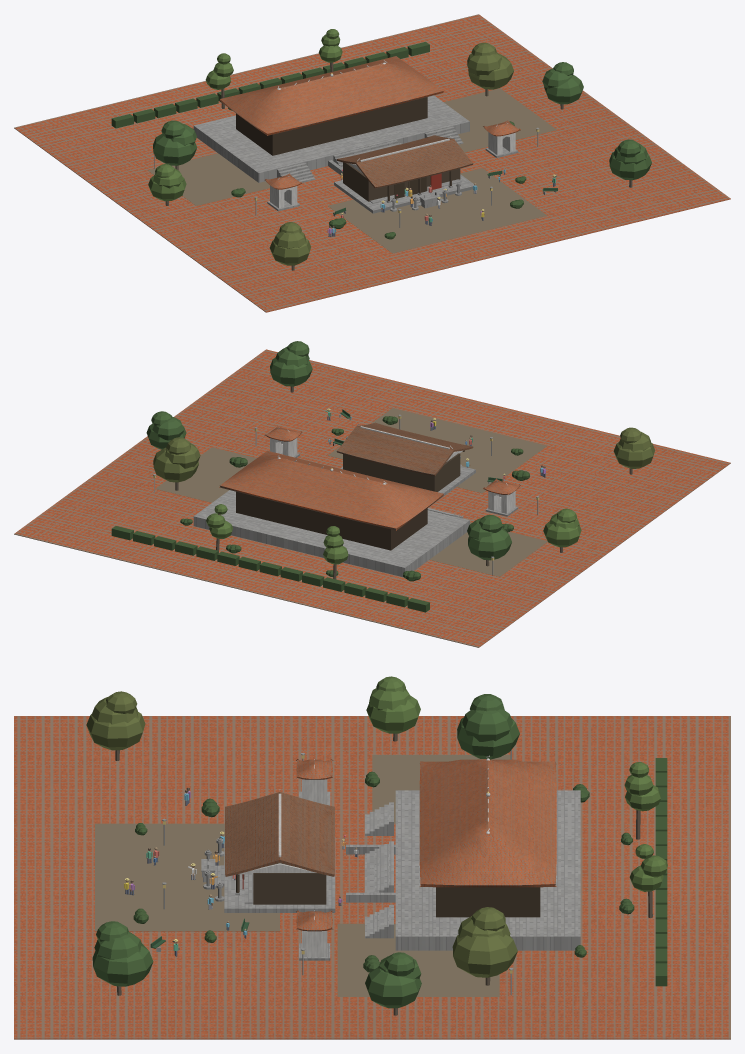
Rendered from le-quy-don-model.glb.
The picture shows the model from 3 angles, top to bottom: view 1: azimuth 30°, elevation 25°; view 2: azimuth 150°, elevation 25°; view 3: azimuth 270°, elevation 25°; orthographic projection. The views are drawn at different scales.
Parts seen in each view (by area): view 1: Plaza_Paving, Plaza_Wear_0, Hall_Terrace, Hall_Roof, Hall_Body, Tree_BigL_Foliage_0, House_Roof, Bush_0_0, Tree_BigR_Foliage_0, Tree_PalmL_Foliage_0, Hall_Ridge_Bar, House_Body; view 2: Plaza_Paving, Hall_Roof, Plaza_Wear_0, Hall_Terrace, Bush_0_0, Tree_BigL_Foliage_0, Hall_Body, House_Roof, Tree_BigR_Foliage_0, Tree_PalmL_Foliage_0, House_Body, Hall_Ridge_Bar; view 3: Plaza_Paving, Plaza_Wear_0, Hall_Terrace, Hall_Roof, Tree_BigL_Foliage_0, House_Roof, Tree_BigR_Foliage_0, Tree_PalmL_Foliage_0, Bush_0_0, Hall_Body, House_Body, Hall_Ridge_Bar.
Part boxes in pixels (x1,y1,x2,y2): Plaza_Paving: (14,14,730,312); Plaza_Wear_0: (148,88,556,253); Hall_Terrace: (153,95,556,227); Hall_Roof: (219,56,520,189); Hall_Body: (236,97,427,198); Tree_BigL_Foliage_0: (153,62,651,180); House_Roof: (336,135,473,188); Bush_0_0: (111,42,526,239); Tree_BigR_Foliage_0: (269,42,513,265); Tree_PalmL_Foliage_0: (148,29,342,201); Hall_Ridge_Bar: (270,60,515,208); House_Body: (343,162,460,201); Plaza_Paving: (14,349,730,647); Hall_Roof: (219,425,520,530); Plaza_Wear_0: (155,408,547,576); Hall_Terrace: (153,414,539,577); Bush_0_0: (111,416,529,612); Tree_BigL_Foliage_0: (146,341,511,560); Hall_Body: (236,491,427,550); House_Roof: (336,422,473,476); Tree_BigR_Foliage_0: (153,427,654,482); Tree_PalmL_Foliage_0: (206,504,581,564); House_Body: (343,450,464,491); Hall_Ridge_Bar: (270,423,515,513); Plaza_Paving: (14,716,730,1039); Plaza_Wear_0: (95,755,510,996); Hall_Terrace: (156,749,580,994); Hall_Roof: (296,759,556,931); Tree_BigL_Foliage_0: (92,694,519,1008); House_Roof: (225,792,334,876); Tree_BigR_Foliage_0: (86,691,517,977); Tree_PalmL_Foliage_0: (366,676,667,891); Bush_0_0: (133,758,667,986); Hall_Body: (242,874,540,917); House_Body: (236,862,326,904); Hall_Ridge_Bar: (238,755,490,956).
Bounding box in the file's own units: 66 × 8.41 × 62.
Materials: 41 (5 with a texture image).
